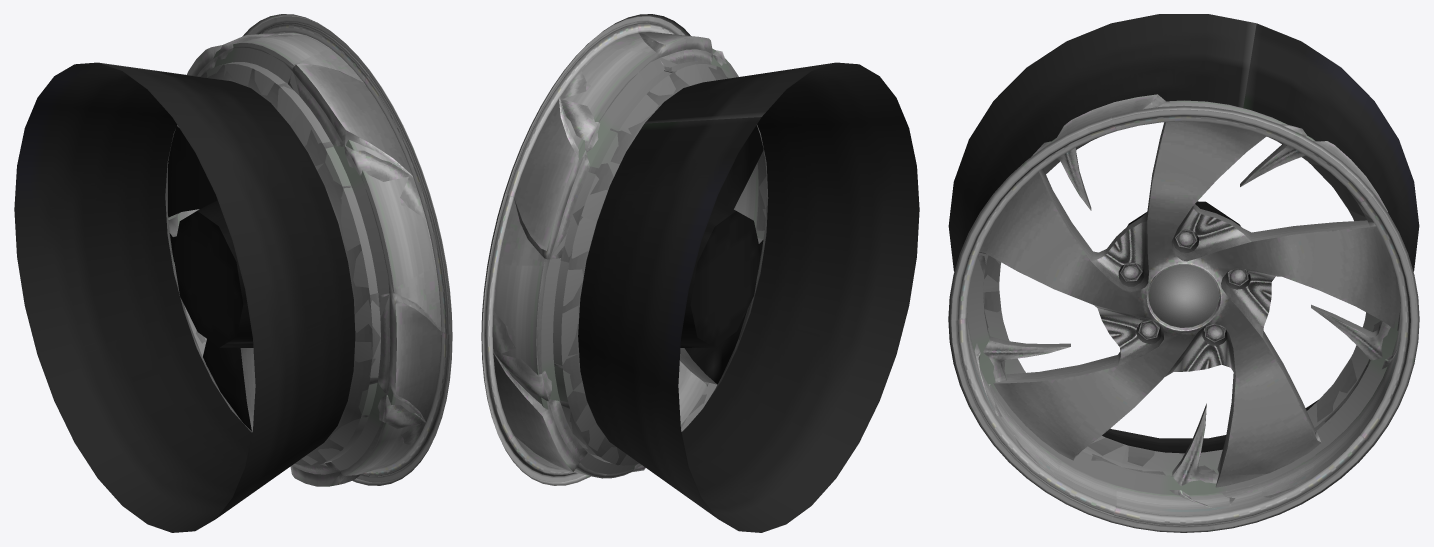
The model's file is wheel35.fbx.
3 renders of one model, left to right at view 1: azimuth 30°, elevation 25°; view 2: azimuth 150°, elevation 25°; view 3: azimuth 270°, elevation 25°, orthographic. The views are drawn at different scales.
Visible parts, largest first — view 1: boy_slayer_wheel_wheel_inner_rim_, boy_slayer_wheel_wheel_chrome_rim_, wheel_rim; view 2: boy_slayer_wheel_wheel_inner_rim_, wheel_rim, boy_slayer_wheel_wheel_chrome_rim_; view 3: boy_slayer_wheel_wheel_chrome_rim_, boy_slayer_wheel_wheel_inner_rim_, wheel_rim.
Part boxes in pixels (bbox=[...]): boy_slayer_wheel_wheel_inner_rim_: bbox=[14, 62, 355, 532]; boy_slayer_wheel_wheel_chrome_rim_: bbox=[165, 24, 446, 486]; wheel_rim: bbox=[166, 14, 452, 485]; boy_slayer_wheel_wheel_inner_rim_: bbox=[578, 62, 919, 532]; wheel_rim: bbox=[481, 14, 767, 485]; boy_slayer_wheel_wheel_chrome_rim_: bbox=[488, 24, 768, 478]; boy_slayer_wheel_wheel_chrome_rim_: bbox=[959, 94, 1408, 518]; boy_slayer_wheel_wheel_inner_rim_: bbox=[948, 14, 1419, 453]; wheel_rim: bbox=[948, 100, 1419, 532].
Bounding box in the file's own units: 0.2277 × 0.48 × 0.48.
Materials: 1 (1 with a texture image).
